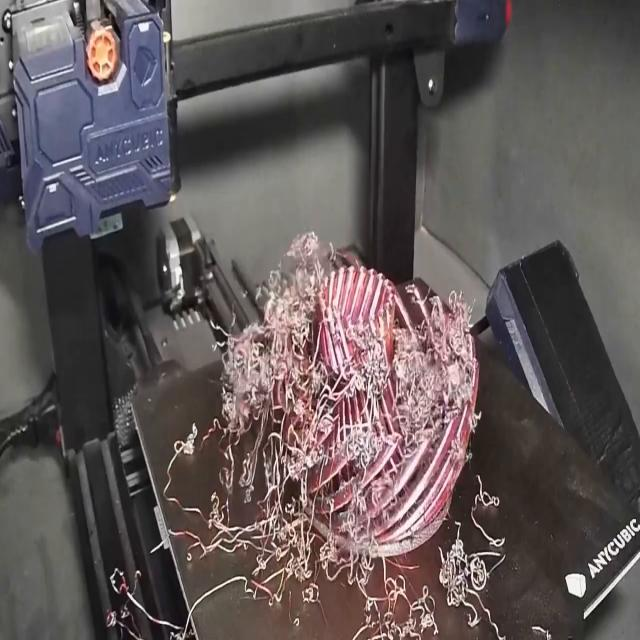spaghetti: (107, 216, 513, 640)
